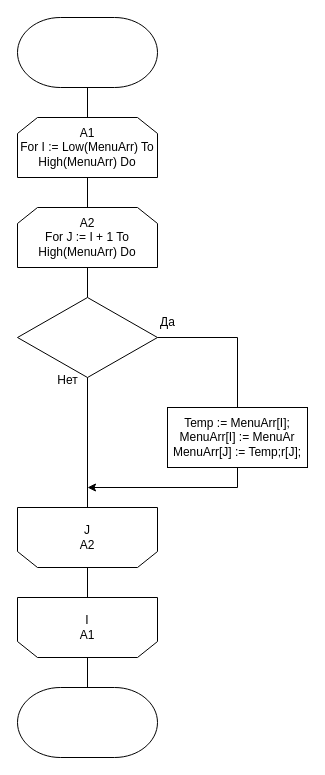
Image size: 325x775. Some labels were removed from this diagram. Here are the shapes that lost their labels. From the top down, the centre of each, then its label:
(87,52): Procedure SortByName(Var MenuArr: TArr);
(87,337): MenuArr[I].Name > MenuArr[J].Name
(87,722): Конец
